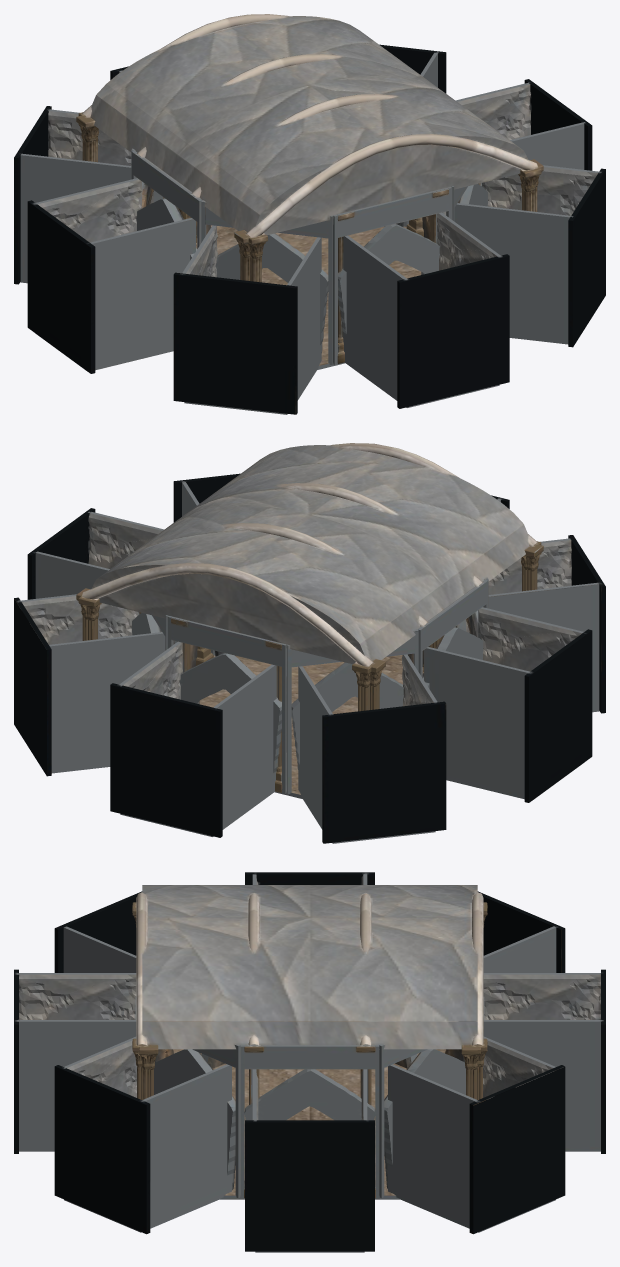
The model's file is room.glb.
3 renders of one model, top to bottom at view 1: azimuth 30°, elevation 25°; view 2: azimuth 150°, elevation 25°; view 3: azimuth 270°, elevation 25°, orthographic. The views are drawn at different scales.
Visible parts, largest first — view 1: DIAMOND-6; view 2: DIAMOND-6; view 3: DIAMOND-6.
Boxes of the visible parts, <box> form: DIAMOND-6: <box>14,14,605,414</box>; DIAMOND-6: <box>14,443,605,843</box>; DIAMOND-6: <box>14,872,605,1252</box>.
Bounding box in the file's own units: 14.12 × 5.75 × 14.12.
1 material, 1 textured.
